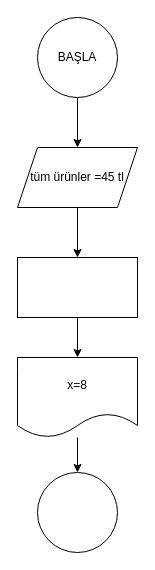
Image size: 155x570. Some labels were removed from this diagram. Each missing label, with the centre of its shape:
45+x-5*2=43 35+x=43: pixel 77 287
DUR: pixel 77 512
